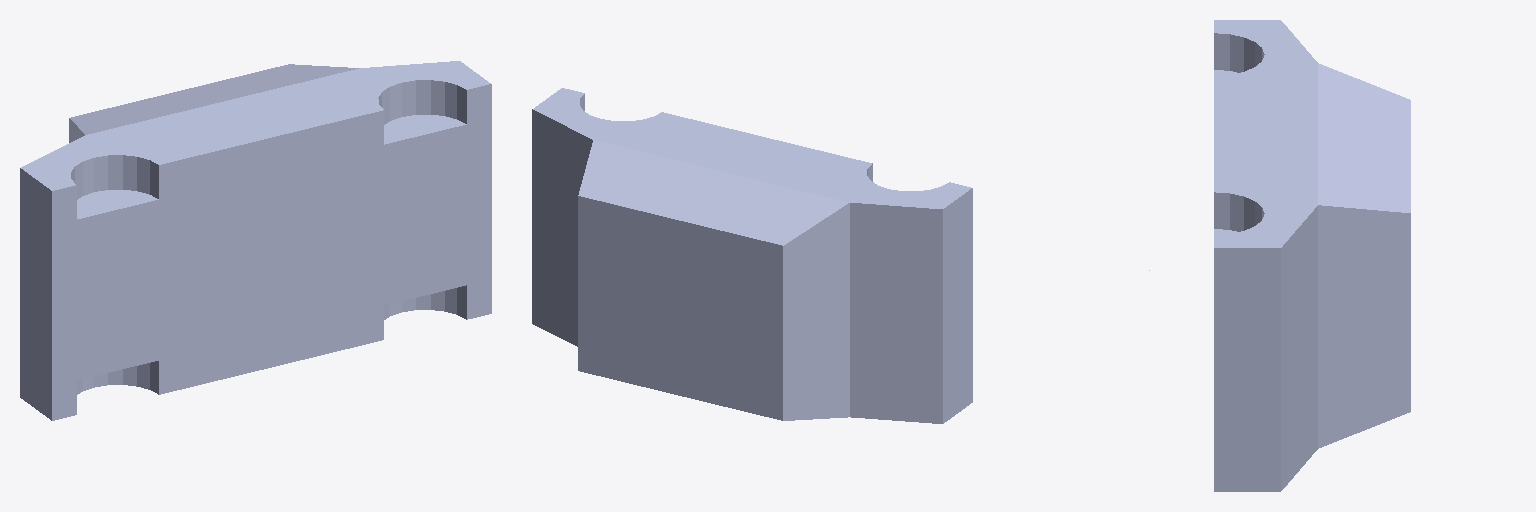
The robot description file, URDF, robot "Car_Bot":
<?xml version="1.0" encoding="utf-8"?>
<!-- This URDF was automatically created by SolidWorks to URDF Exporter! Originally created by [author] ([email redacted]) 
     Commit Version: 1.6.0-4-g7f85cfe  Build Version: 1.6.7995.38578
     For more information, please see http://wiki.ros.org/sw_urdf_exporter -->
     <!-- xyz="-6.9389E-18 0.012359 1.3957E-18" -->
<robot
  name="Car_Bot">
  <link
    name="CAR_BODY">
    <inertial>
      <origin  
        xyz="-6.9389E-18 0.012359 1.3957E-18"
        rpy="0 0 0" />
      <mass
        value="0.06661" />
      <inertia
        ixx="1.2286E-05"
        ixy="-2.3375E-21"
        ixz="4.7984E-22"
        iyy="3.2578E-05"
        iyz="-9.369E-22"
        izz="2.8742E-05" />
    </inertial>
    <visual>
      <origin
        xyz="0 0 0"
        rpy="0 0 0" />
      <geometry>
        <mesh filename="meshes/CAR_BODY.stl"/>
      </geometry>
      <material
        name="">
        <color
          rgba="0.79216 0.81961 0.93333 1" />
      </material>
    </visual>
    <collision>
      <origin
        xyz="0 0 0"
        rpy="0 0 0" />
      <geometry>
        <mesh filename="meshes/CAR_BODY.stl"/>
      </geometry>
    </collision>
  </link>
  <link
    name="wheel1">
    <inertial>
      <origin
        xyz="0.028 8.0569E-19 -0.018969"
        rpy="0 0 0" />
      <mass
        value="0.0002595" />
      <inertia
        ixx="4.2293E-09"
        ixy="-2.0357E-24"
        ixz="2.073E-25"
        iyy="4.2293E-09"
        iyz="-6.1302E-25"
        izz="8.0995E-09" />
    </inertial>
    <visual>
      <origin
        xyz="0 0 0"
        rpy="0 0 0" />
      <geometry>
        <mesh filename="meshes/wheel1.STL"/>
      </geometry>
      <material
        name="">
        <color
          rgba="0.79216 0.81961 0.93333 1" />
      </material>
    </visual>
    <collision>
      <origin
        xyz="0 0 0"
        rpy="0 0 0" />
      <geometry>
        <mesh filename="meshes/wheel1.STL"/>
      </geometry>
    </collision>
  </link>
  <joint
    name="joint1"
    type="revolute">
    <origin
      xyz="0 0 0"
      rpy="0 0 0" />
    <parent
      link="CAR_BODY" />
    <child
      link="wheel1" />
    <axis
      xyz="0 0 -1" />
    <limit
      lower="0"
      upper="0"
      effort="0"
      velocity="0" />
  </joint>
  <link
    name="wheel2">
    <inertial>
      <origin
        xyz="-0.028 8.1367E-19 -0.018969"
        rpy="0 0 0" />
      <mass
        value="0.0002595" />
      <inertia
        ixx="4.2293E-09"
        ixy="-7.5057E-25"
        ixz="4.9881E-25"
        iyy="4.2293E-09"
        iyz="8.4438E-25"
        izz="8.0995E-09" />
    </inertial>
    <visual>
      <origin
        xyz="0 0 0"
        rpy="0 0 0" />
      <geometry>
        <mesh filename="meshes/wheel2.STL"/>
      </geometry>
      <material
        name="">
        <color
          rgba="0.79216 0.81961 0.93333 1" />
      </material>
    </visual>
    <collision>
      <origin
        xyz="0 0 0"
        rpy="0 0 0" />
      <geometry>
        <mesh filename="meshes/wheel2.STL"/>
      </geometry>
    </collision>
  </link>
  <joint
    name="joint2"
    type="revolute">
    <origin
      xyz="0 0 0"
      rpy="0 0 0" />
    <parent
      link="CAR_BODY" />
    <child
      link="wheel2" />
    <axis
      xyz="0 0 -1" />
    <limit
      lower="0"
      upper="0"
      effort="0"
      velocity="0" />
  </joint>
  <link
    name="wheel3">
    <inertial>
      <origin
        xyz="-0.028 -3.6481E-18 0.018969"
        rpy="0 0 0" />
      <mass
        value="0.0002595" />
      <inertia
        ixx="4.2293E-09"
        ixy="-1.1469E-24"
        ixz="1.5806E-25"
        iyy="4.2293E-09"
        iyz="-7.7254E-25"
        izz="8.0995E-09" />
    </inertial>
    <visual>
      <origin
        xyz="0 0 0"
        rpy="0 0 0" />
      <geometry>
        <mesh filename="meshes/wheel3.STL"/>
      </geometry>
      <material
        name="">
        <color
          rgba="0.79216 0.81961 0.93333 1" />
      </material>
    </visual>
    <collision>
      <origin
        xyz="0 0 0"
        rpy="0 0 0" />
      <geometry>
        <mesh filename="meshes/wheel3.STL"/>
      </geometry>
    </collision>
  </link>
  <joint
    name="joint3"
    type="revolute">
    <origin
      xyz="0 0 0"
      rpy="0 0 0" />
    <parent
      link="CAR_BODY" />
    <child
      link="wheel3" />
    <axis
      xyz="0 0 1" />
    <limit
      lower="0"
      upper="0"
      effort="0"
      velocity="0" />
  </joint>
  <link
    name="wheel4">
    <inertial>
      <origin
        xyz="0.028 -2.7406E-18 0.018969"
        rpy="0 0 0" />
      <mass
        value="0.0002595" />
      <inertia
        ixx="4.2293E-09"
        ixy="-2.4119E-24"
        ixz="2.3969E-26"
        iyy="4.2293E-09"
        iyz="4.0848E-25"
        izz="8.0995E-09" />
    </inertial>
    <visual>
      <origin
        xyz="0 0 0"
        rpy="0 0 0" />
      <geometry>
        <mesh filename="meshes/wheel4.STL"/>
      </geometry>
      <material
        name="">
        <color
          rgba="0.79216 0.81961 0.93333 1" />
      </material>
    </visual>
    <collision>
      <origin
        xyz="0 0 0"
        rpy="0 0 0" />
      <geometry>
        <mesh filename="meshes/wheel4.STL"/>
      </geometry>
    </collision>
  </link>
  <joint
    name="joint4"
    type="revolute">
    <origin
      xyz="0 0 0"
      rpy="0 0 0" />
    <parent
      link="CAR_BODY" />
    <child
      link="wheel4" />
    <axis
      xyz="0 0 1" />
    <limit
      lower="0"
      upper="0"
      effort="0"
      velocity="0" />
  </joint>
</robot>

--- What the picture shows (computed from the rendered views, not written in the file) ---
3 views of the same robot in one strip: view 1: azimuth 30°, elevation 25°; view 2: azimuth 150°, elevation 25°; view 3: azimuth 270°, elevation 25° (orthographic).
Robot: Car_Bot — 5 links, 4 joints (4 revolute); root link CAR_BODY; default pose: all joints at 0.
Visible links, largest first — view 1: CAR_BODY; view 2: CAR_BODY; view 3: CAR_BODY.
Link boxes in pixels (x1,y1,x2,y2): CAR_BODY: (20, 61, 491, 420); CAR_BODY: (532, 88, 972, 423); CAR_BODY: (1214, 20, 1410, 491).
Bounding box of the posed robot: 40.23 × 19.41 × 20.63 m (x, y, z).
Meshes: 5 distinct files referenced, 3 mesh visuals loaded (3 binary STL); not drawn: 2 (reference not matched to a file when rendering).
